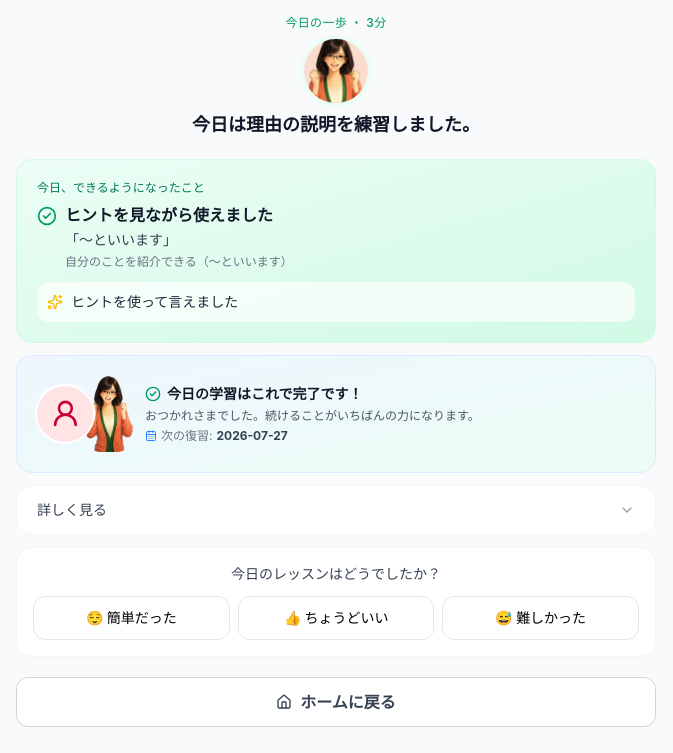
CourseReport（会話後の一本道） › 「詳しく見る」で詳細が開閉する（aria-expanded）
Click the button "詳しく見る" at (72, 509), box left=17, top=486, right=655, bottom=534
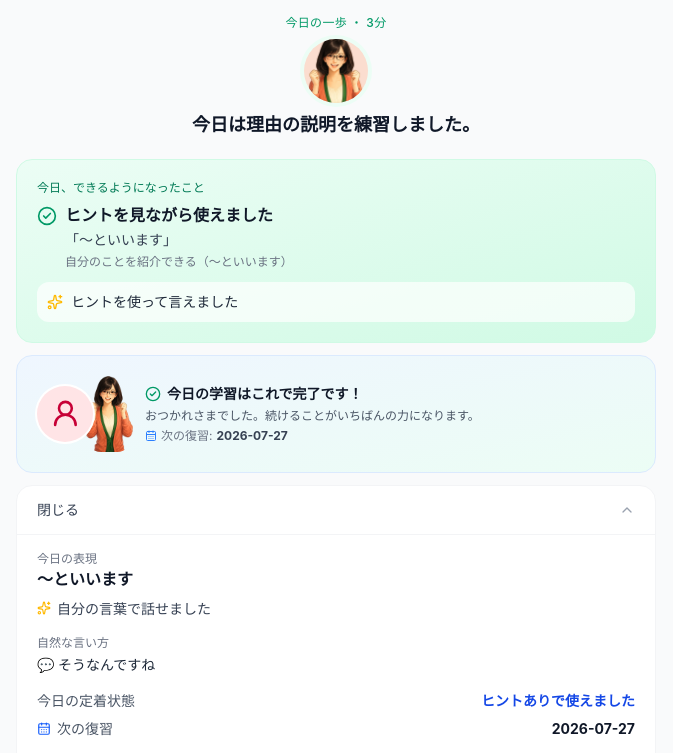
expect the button "閉じる" is shown: met, box left=17, top=486, right=655, bottom=534
expect the text "今日の定着状態" is shown: met, box left=37, top=691, right=135, bottom=711
